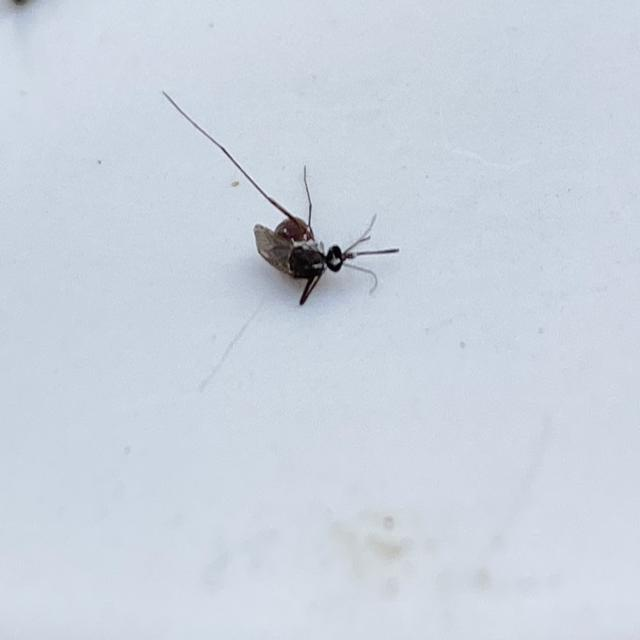albopictus: (161, 86, 398, 303)
